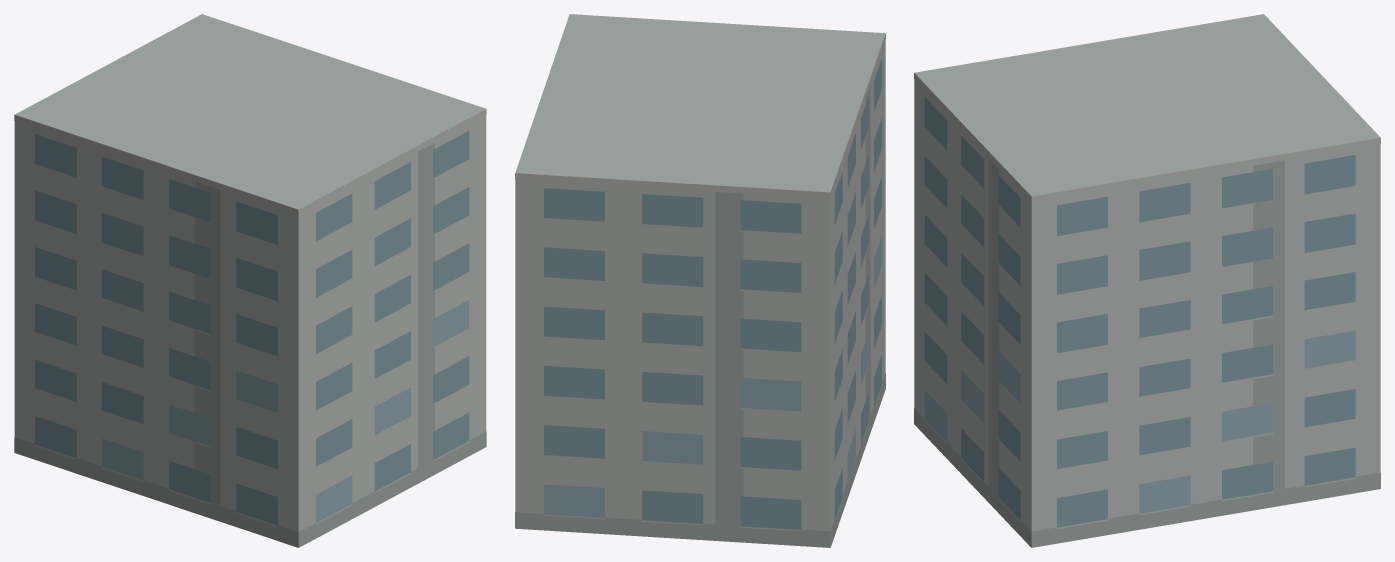
Rendered from survey-upis-32849601.glb.
The picture shows the model from 3 angles, left to right: view 1: azimuth 30°, elevation 25°; view 2: azimuth 150°, elevation 25°; view 3: azimuth 270°, elevation 25°; orthographic projection. The views are drawn at different scales.
Visible parts, largest first — view 1: survey-upis-32849601.tmp; view 2: survey-upis-32849601.tmp; view 3: survey-upis-32849601.tmp.
Part boxes in pixels (x1=…): survey-upis-32849601.tmp: x1=14, y1=14, x2=486, y2=547; survey-upis-32849601.tmp: x1=515, y1=14, x2=885, y2=547; survey-upis-32849601.tmp: x1=914, y1=14, x2=1380, y2=547.
Bounding box in the file's own units: 14.71 × 13.2 × 15.9.
